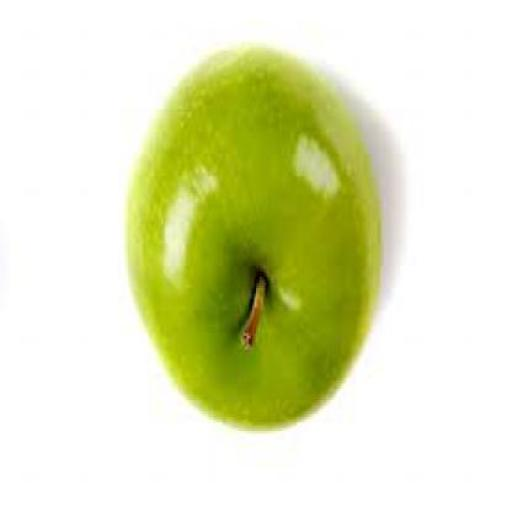biodegradable: (128, 67, 382, 436)
